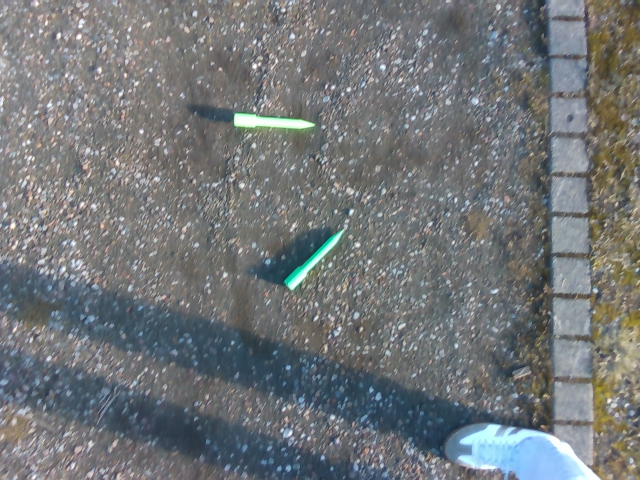Probe: (281, 229, 345, 291), (229, 109, 319, 135)
